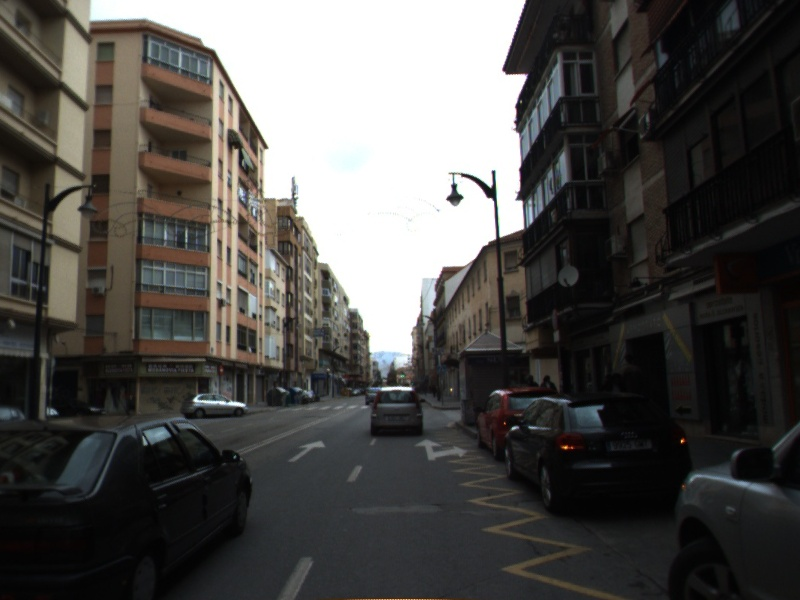STRAIGHT: (286, 437, 328, 464)
STRAIGHT_RIGHT: (412, 436, 471, 462)
